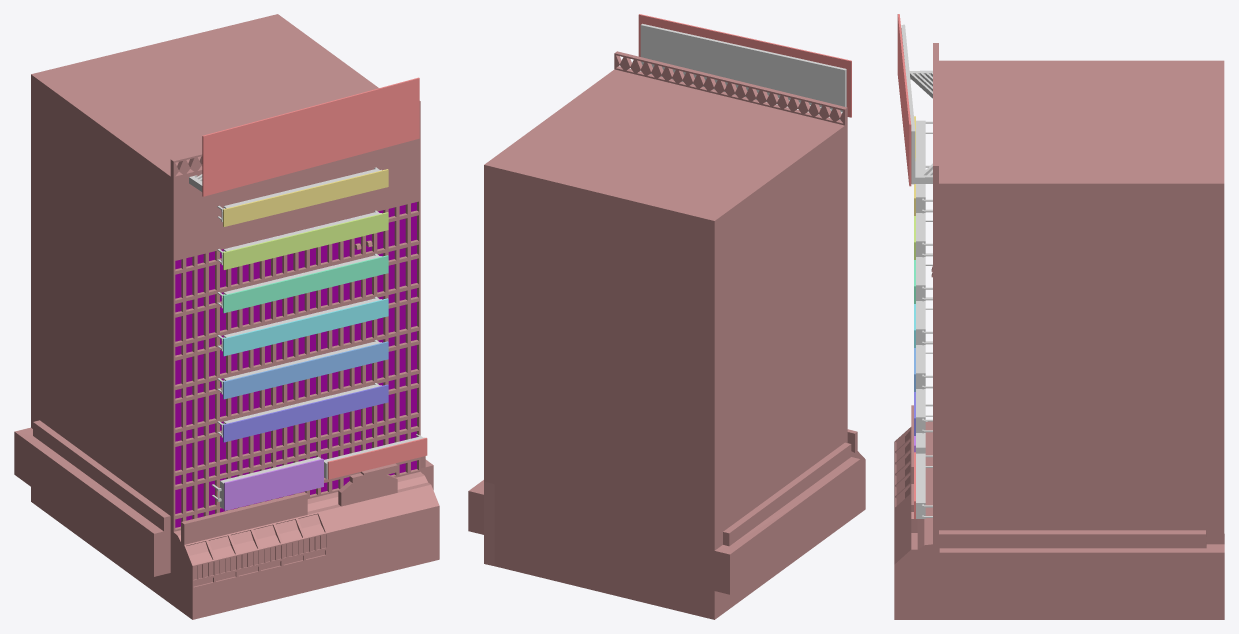
Rendered from zikkuri_model_4.FBX.
3 views of the same model, side by side, from view 1: azimuth 30°, elevation 25°; view 2: azimuth 150°, elevation 25°; view 3: azimuth 270°, elevation 25° (orthographic). The views are drawn at different scales.
Parts seen in each view (by area): view 1: Building, Box007, Box001, Box002, Box003, Box004, Box005, Box006, Box009, Box008, kanban4, kanban5 (+4 smaller); view 2: Building, Daikanban, Box007; view 3: Building, Daikanban, Box007, kanban8, kanban2, kanban3, kanban4, kanban5, kanban6, kanban7.
Part boxes in pixels (box(x1,y1,x2,y2)): Building: box(14, 14, 439, 619); Box007: box(202, 77, 419, 196); Box001: box(223, 384, 388, 442); Box002: box(223, 341, 388, 399); Box003: box(223, 298, 388, 356); Box004: box(223, 255, 388, 313); Box005: box(223, 212, 388, 269); Box006: box(223, 169, 388, 226); Box009: box(224, 458, 323, 510); Box008: box(327, 437, 427, 479); kanban4: box(217, 340, 381, 394); kanban5: box(217, 296, 381, 351); Building: box(468, 51, 865, 619); Daikanban: box(640, 23, 846, 120); Box007: box(638, 14, 851, 117); Building: box(894, 43, 1224, 619); Daikanban: box(901, 24, 932, 184); Box007: box(897, 14, 911, 186); kanban8: box(916, 120, 932, 213); kanban2: box(916, 453, 932, 518); kanban3: box(916, 341, 932, 433); kanban4: box(916, 297, 932, 389); kanban5: box(916, 253, 932, 345); kanban6: box(916, 209, 932, 301); kanban7: box(916, 165, 932, 257).
Bounding box in the file's own units: 17 × 27.8 × 17.03.
